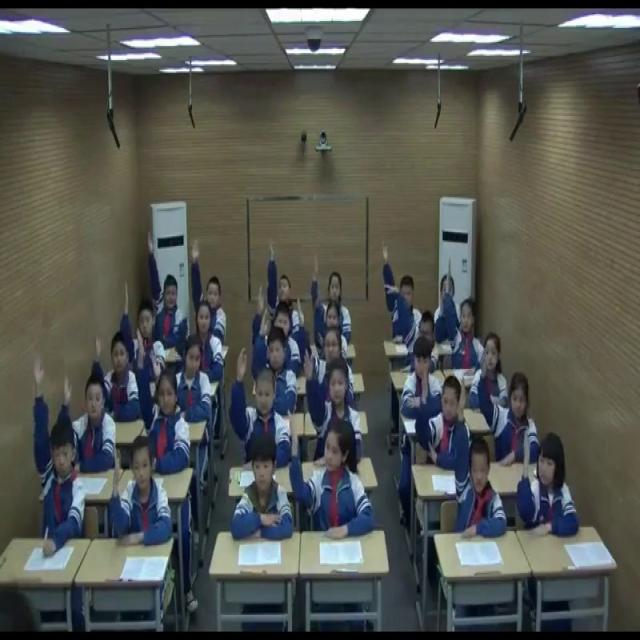focused: (232, 432, 291, 537), (172, 334, 214, 430), (400, 338, 444, 423), (468, 333, 509, 412)
raising_hand: (286, 405, 376, 543), (32, 358, 85, 562), (454, 374, 510, 542), (134, 330, 193, 480), (299, 339, 364, 465), (298, 348, 365, 468), (514, 424, 581, 544), (228, 347, 292, 466), (477, 356, 542, 468), (109, 435, 173, 548), (294, 294, 356, 406), (58, 368, 116, 476), (416, 364, 471, 469), (252, 306, 299, 416), (443, 256, 486, 376), (146, 231, 188, 345), (380, 239, 424, 345), (186, 236, 228, 344), (122, 280, 168, 376), (94, 332, 141, 424), (265, 234, 305, 338), (312, 252, 354, 343), (312, 292, 354, 357)
